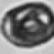correct: (1, 1, 52, 48)
